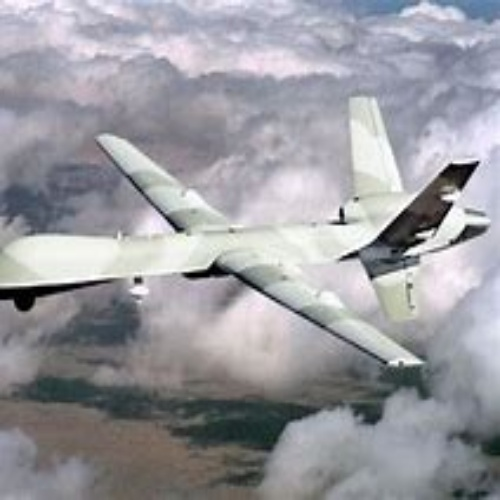uav: (2, 100, 493, 370)
